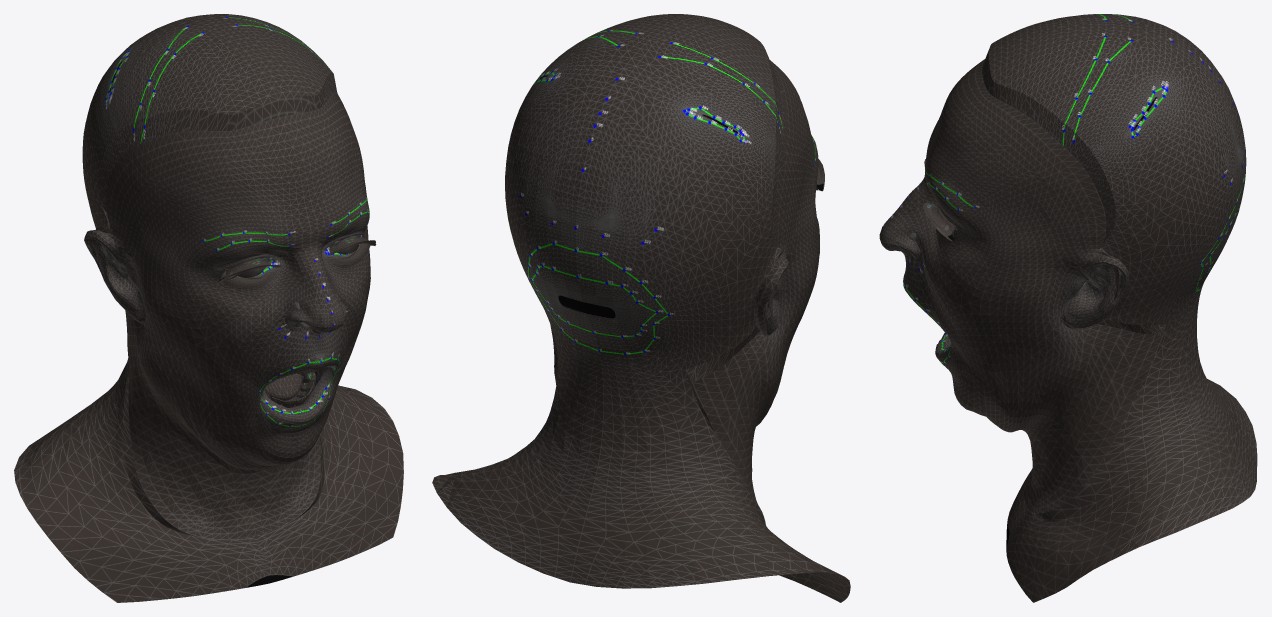
The model's file is ict_mediapipe_M_Face_textured.obj.
3 views of the same model, side by side, from view 1: azimuth 30°, elevation 25°; view 2: azimuth 150°, elevation 25°; view 3: azimuth 270°, elevation 25° (orthographic). The views are drawn at different scales.
Size of the model in its own units: 1.02 by 1.38 by 0.9253.
Materials: 1 (1 with a texture image).
